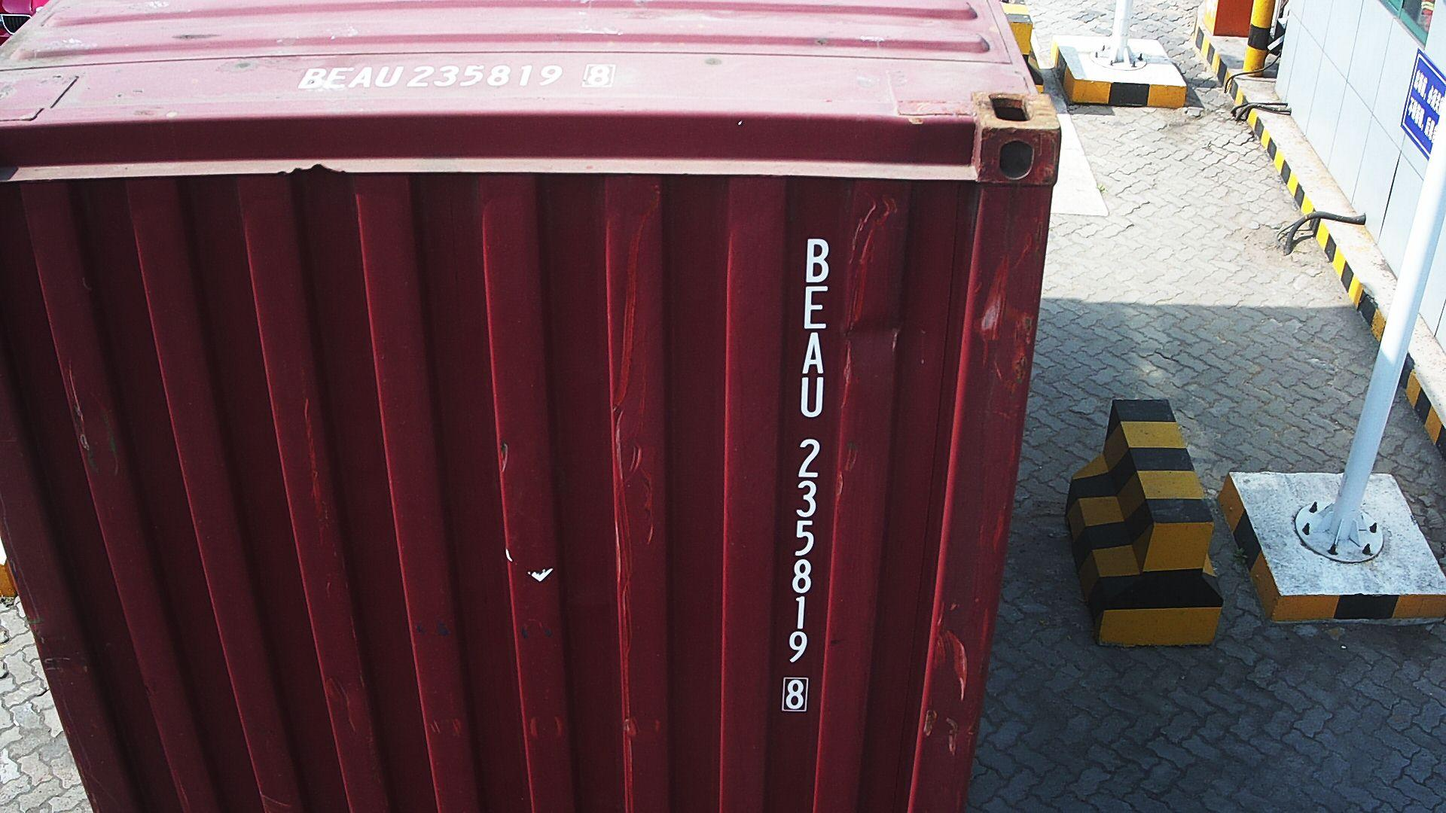container-numbers: (773, 235, 835, 717), (289, 61, 643, 96)
